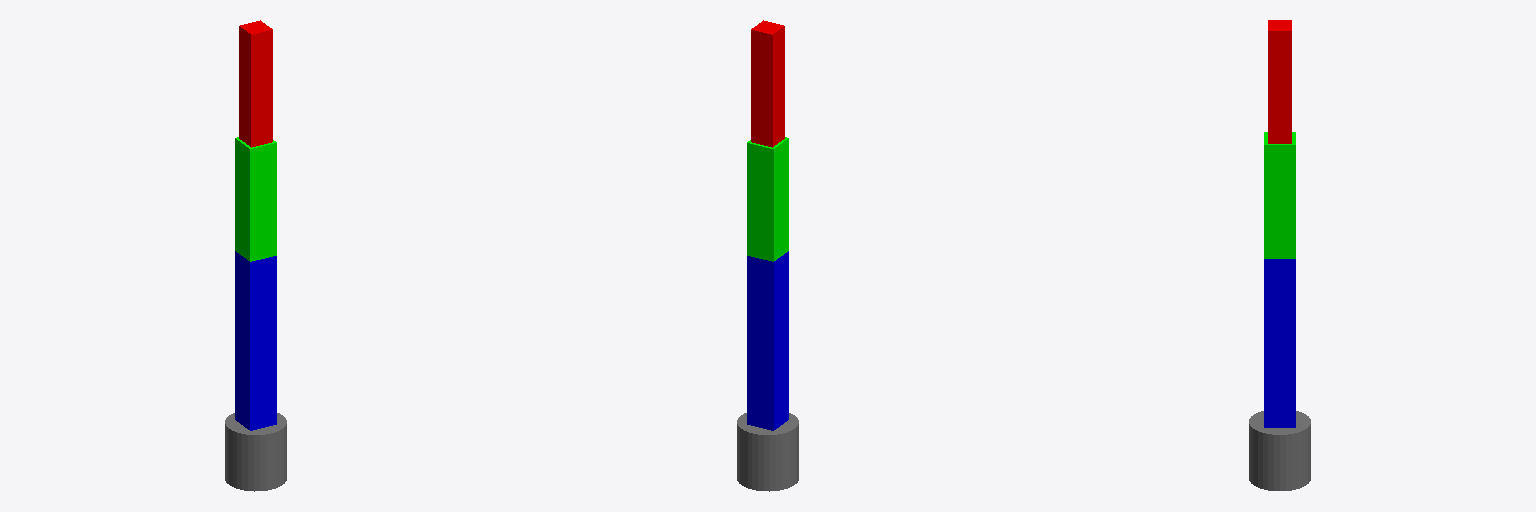
robot.urdf — simple_arm_3dof:
<?xml version="1.0" ?>
<!-- =================================================================================== -->
<!-- |    This document was autogenerated by xacro from simple_arm.urdf.xacro          | -->
<!-- |    EDITING THIS FILE BY HAND IS NOT RECOMMENDED                                 | -->
<!-- =================================================================================== -->
<robot name="simple_arm_3dof">
  <ros2_control name="SimpleArmHardware" type="system">
    <hardware>
      <plugin>gazebo_ros2_control/GazeboSystem</plugin>
    </hardware>
    <joint name="joint1">
      <command_interface name="position">
        <param name="min">-3.14</param>
        <param name="max">3.14</param>
      </command_interface>
      <state_interface name="position"/>
      <state_interface name="velocity"/>
    </joint>
    <joint name="joint2">
      <command_interface name="position">
        <param name="min">-3.14</param>
        <param name="max">3.14</param>
      </command_interface>
      <state_interface name="position"/>
      <state_interface name="velocity"/>
    </joint>
    <joint name="joint3">
      <command_interface name="position">
        <param name="min">-3.14</param>
        <param name="max">3.14</param>
      </command_interface>
      <state_interface name="position"/>
      <state_interface name="velocity"/>
    </joint>
  </ros2_control>
  <!-- Base Link -->
  <link name="base_link">
    <visual>
      <geometry>
        <cylinder length="0.1" radius="0.05"/>
      </geometry>
      <material name="gray">
        <color rgba="0.5 0.5 0.5 1"/>
      </material>
    </visual>
    <collision>
      <geometry>
        <cylinder length="0.1" radius="0.05"/>
      </geometry>
    </collision>
    <inertial>
      <mass value="0.5"/>
      <inertia ixx="0.001" ixy="0.0" ixz="0.0" iyy="0.001" iyz="0.0" izz="0.001"/>
    </inertial>
  </link>
  <!-- Joint1 -->
  <joint name="joint1" type="revolute">
    <parent link="base_link"/>
    <child link="link1"/>
    <origin xyz="0 0 0.05"/>
    <axis xyz="0 0 1"/>
    <limit effort="1.0" lower="-1.57" upper="1.57" velocity="1.0"/>
  </joint>
  <!-- Link1 -->
  <link name="link1">
    <visual>
      <origin xyz="0 0 0.15"/>
      <geometry>
        <box size="0.05 0.05 0.3"/>
      </geometry>
      <material name="blue">
        <color rgba="0 0 1 1"/>
      </material>
    </visual>
    <collision>
      <origin xyz="0 0 0.15"/>
      <geometry>
        <box size="0.05 0.05 0.3"/>
      </geometry>
    </collision>
    <inertial>
      <mass value="0.3"/>
      <inertia ixx="0.001" ixy="0.0" ixz="0.0" iyy="0.001" iyz="0.0" izz="0.001"/>
    </inertial>
  </link>
  <!-- Joint2 -->
  <joint name="joint2" type="revolute">
    <parent link="link1"/>
    <child link="link2"/>
    <origin xyz="0 0 0.3"/>
    <axis xyz="0 1 0"/>
    <limit effort="1.0" lower="-1.57" upper="1.57" velocity="1.0"/>
  </joint>
  <!-- Link2 -->
  <link name="link2">
    <visual>
      <origin xyz="0 0 0.1"/>
      <geometry>
        <box size="0.05 0.05 0.2"/>
      </geometry>
      <material name="green">
        <color rgba="0 1 0 1"/>
      </material>
    </visual>
    <collision>
      <origin xyz="0 0 0.1"/>
      <geometry>
        <box size="0.05 0.05 0.2"/>
      </geometry>
    </collision>
    <inertial>
      <mass value="0.2"/>
      <inertia ixx="0.0005" ixy="0.0" ixz="0.0" iyy="0.0005" iyz="0.0" izz="0.0005"/>
    </inertial>
  </link>
  <!-- Joint3 -->
  <joint name="joint3" type="revolute">
    <parent link="link2"/>
    <child link="link3"/>
    <origin xyz="0 0 0.2"/>
    <axis xyz="0 1 0"/>
    <limit effort="1.0" lower="-1.57" upper="1.57" velocity="1.0"/>
  </joint>
  <!-- Link3 -->
  <link name="link3">
    <visual>
      <origin xyz="0 0 0.1"/>
      <geometry>
        <box size="0.04 0.04 0.2"/>
      </geometry>
      <material name="red">
        <color rgba="1 0 0 1"/>
      </material>
    </visual>
    <collision>
      <origin xyz="0 0 0.1"/>
      <geometry>
        <box size="0.04 0.04 0.2"/>
      </geometry>
    </collision>
    <inertial>
      <mass value="0.15"/>
      <inertia ixx="0.0003" ixy="0.0" ixz="0.0" iyy="0.0003" iyz="0.0" izz="0.0003"/>
    </inertial>
  </link>
  <transmission name="joint1_trans">
    <type>transmission_interface/SimpleTransmission</type>
    <joint name="joint1">
      <hardwareInterface>position</hardwareInterface>
    </joint>
    <actuator name="joint1_motor">
      <hardwareInterface>position</hardwareInterface>
    </actuator>
  </transmission>
  <transmission name="joint2_trans">
    <type>transmission_interface/SimpleTransmission</type>
    <joint name="joint2">
      <hardwareInterface>position</hardwareInterface>
    </joint>
    <actuator name="joint2_motor">
      <hardwareInterface>position</hardwareInterface>
    </actuator>
  </transmission>
  <transmission name="joint3_trans">
    <type>transmission_interface/SimpleTransmission</type>
    <joint name="joint3">
      <hardwareInterface>position</hardwareInterface>
    </joint>
    <actuator name="joint3_motor">
      <hardwareInterface>position</hardwareInterface>
    </actuator>
  </transmission>
  <gazebo>
    <plugin filename="libgazebo_ros2_control.so" name="gazebo_ros2_control">
      <parameters>[local-path]/ros2_ws/install/mi_br/share/mi_br/config/ros2_control.yaml</parameters>
    </plugin>
  </gazebo>
  <ros2_control name="simple_arm" type="system">
    <hardware>
      <plugin>gazebo_ros2_control/GazeboSystem</plugin>
    </hardware>
    <joint name="joint1">
      <command_interface name="position">
        <param name="min">-3.14</param>
        <param name="max">3.14</param>
      </command_interface>
      <state_interface name="position"/>
      <state_interface name="velocity"/>
    </joint>
    <joint name="joint2">
      <command_interface name="position">
        <param name="min">-3.14</param>
        <param name="max">3.14</param>
      </command_interface>
      <state_interface name="position"/>
      <state_interface name="velocity"/>
    </joint>
    <joint name="joint3">
      <command_interface name="position">
        <param name="min">-3.14</param>
        <param name="max">3.14</param>
      </command_interface>
      <state_interface name="position"/>
      <state_interface name="velocity"/>
    </joint>
  </ros2_control>
</robot>

--- Render facts (derived) ---
The picture shows the robot from 3 angles, left to right: view 1: azimuth 30°, elevation 25°; view 2: azimuth 150°, elevation 25°; view 3: azimuth 270°, elevation 25°; orthographic projection.
Model simple_arm_3dof with 4 links and 3 joints (3 revolute), rooted at base_link, posed all joints at 0.
Visible links, largest first — view 1: link1, link2, link3, base_link; view 2: link1, link2, link3, base_link; view 3: link1, base_link, link2, link3.
Boxes of the visible links, x1,y1,x2,y2 form: link1: [235, 251, 276, 430]; link2: [235, 137, 276, 261]; link3: [239, 20, 272, 147]; base_link: [225, 413, 286, 491]; link1: [747, 251, 788, 430]; link2: [747, 137, 788, 261]; link3: [751, 20, 784, 147]; base_link: [737, 413, 798, 491]; link1: [1264, 259, 1295, 427]; base_link: [1249, 411, 1310, 490]; link2: [1264, 132, 1295, 258]; link3: [1268, 20, 1291, 143].
Size in the robot's own frame: 0.1 by 0.1 by 0.8 metres.
Geometry: primitives only (box / cylinder / sphere), no mesh files.
